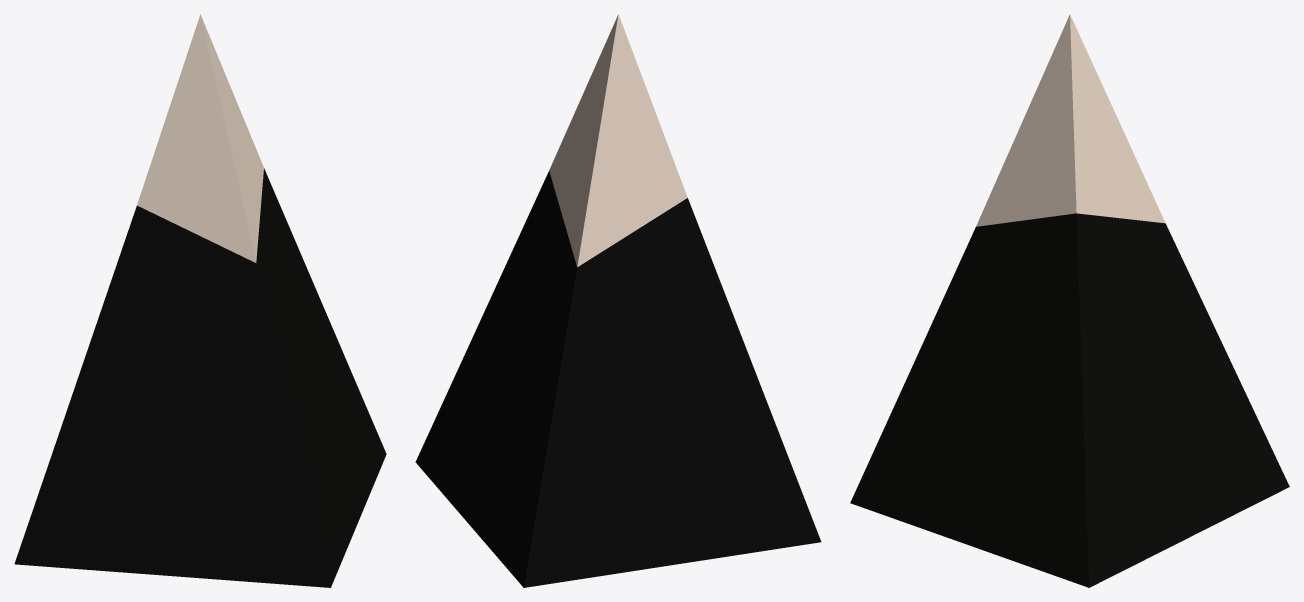
File: mountain_1.FBX
The picture shows the model from 3 angles, left to right: view 1: azimuth 30°, elevation 25°; view 2: azimuth 150°, elevation 25°; view 3: azimuth 270°, elevation 25°; orthographic projection. The views are drawn at different scales.
Parts seen in each view (by area): view 1: mountain_1; view 2: mountain_1; view 3: mountain_1.
Boxes of the visible parts, x1,y1,x2,y2 form: mountain_1: [14, 14, 386, 587]; mountain_1: [415, 14, 821, 587]; mountain_1: [850, 14, 1289, 587].
Size of the model in its own units: 173 by 209 by 173.
